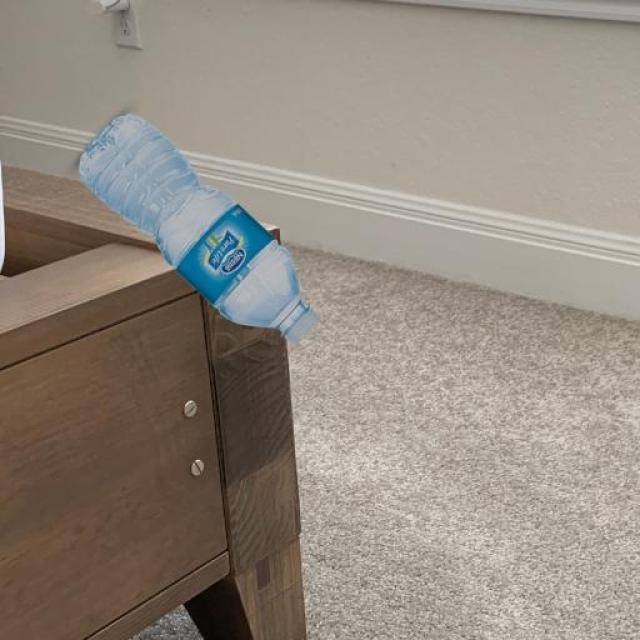bottle: (76, 110, 320, 346)
